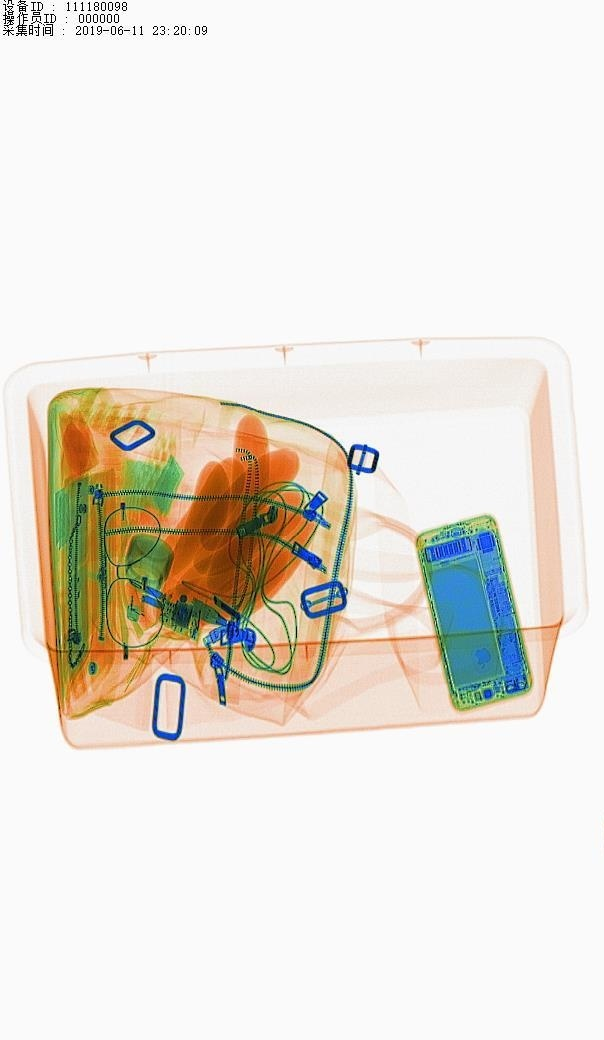NonmetallicFire: (103, 525, 178, 660)
